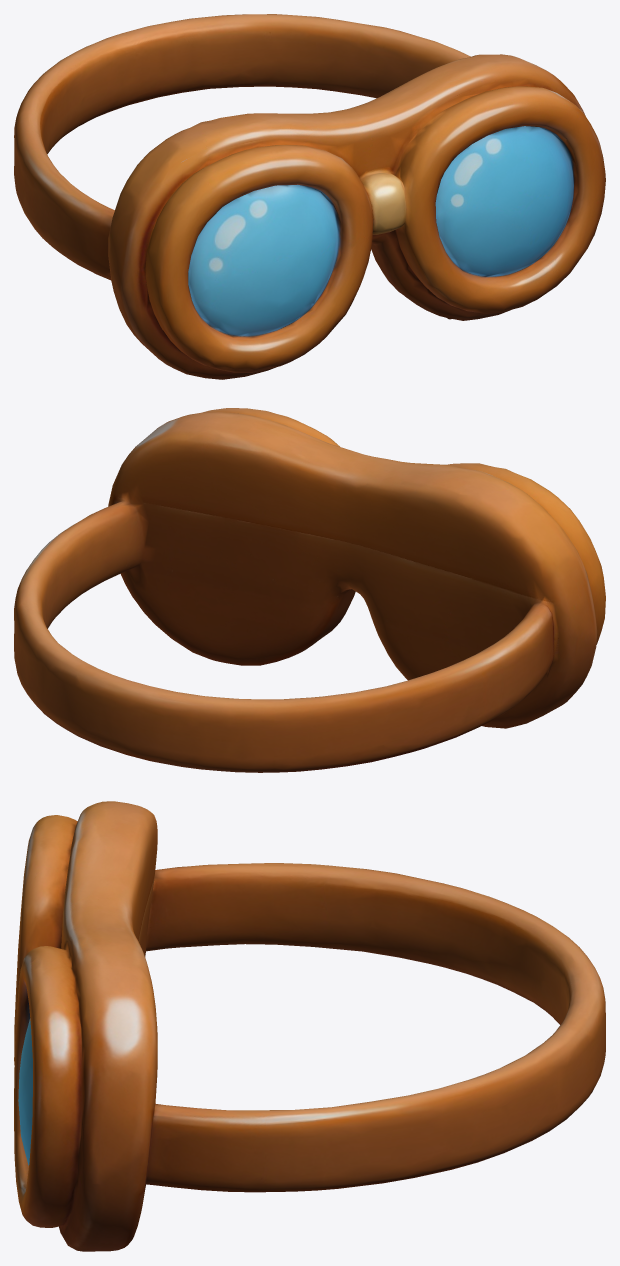
File: glasses-goggles.glb
3 renders of one model, top to bottom at view 1: azimuth 30°, elevation 25°; view 2: azimuth 150°, elevation 25°; view 3: azimuth 270°, elevation 25°, orthographic. The views are drawn at different scales.
Visible parts, largest first — view 1: tripo_node_ade500c6-51f2-4657-8259-d9d9b1813a8a; view 2: tripo_node_ade500c6-51f2-4657-8259-d9d9b1813a8a; view 3: tripo_node_ade500c6-51f2-4657-8259-d9d9b1813a8a.
Boxes of the visible parts, <box> form: tripo_node_ade500c6-51f2-4657-8259-d9d9b1813a8a: <box>14,14,605,379</box>; tripo_node_ade500c6-51f2-4657-8259-d9d9b1813a8a: <box>14,408,605,772</box>; tripo_node_ade500c6-51f2-4657-8259-d9d9b1813a8a: <box>14,801,605,1251</box>.
Size of the model in its own units: 1 by 0.4918 by 0.9352.
Materials: 1 (1 with a texture image).
